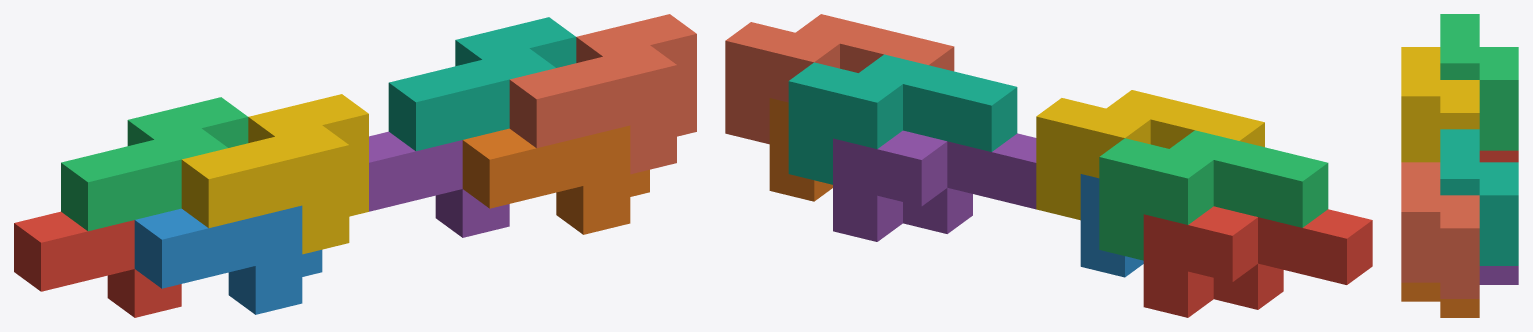
The model's file is tiling.obj.
The picture shows the model from 3 angles, left to right: view 1: azimuth 30°, elevation 25°; view 2: azimuth 150°, elevation 25°; view 3: azimuth 270°, elevation 25°; orthographic projection. The views are drawn at different scales.
Parts seen in each view (by area): view 1: copy_1_domain_4, copy_1_domain_8, copy_1_domain_7, copy_1_domain_3, copy_1_domain_2, copy_1_domain_6, copy_1_domain_1, copy_1_domain_5; view 2: copy_1_domain_3, copy_1_domain_7, copy_1_domain_1, copy_1_domain_5, copy_1_domain_8, copy_1_domain_4, copy_1_domain_6, copy_1_domain_2; view 3: copy_1_domain_8, copy_1_domain_7, copy_1_domain_3, copy_1_domain_4, copy_1_domain_6, copy_1_domain_5, copy_1_domain_1.
Part boxes in pixels (bbox=[...]): copy_1_domain_4: bbox=[181, 94, 368, 254]; copy_1_domain_8: bbox=[509, 14, 696, 174]; copy_1_domain_7: bbox=[388, 17, 576, 151]; copy_1_domain_3: bbox=[61, 97, 248, 231]; copy_1_domain_2: bbox=[134, 205, 322, 314]; copy_1_domain_6: bbox=[462, 125, 649, 234]; copy_1_domain_1: bbox=[14, 211, 181, 317]; copy_1_domain_5: bbox=[369, 131, 509, 237]; copy_1_domain_3: bbox=[1099, 130, 1328, 260]; copy_1_domain_7: bbox=[788, 54, 1017, 184]; copy_1_domain_1: bbox=[1143, 206, 1372, 317]; copy_1_domain_5: bbox=[833, 130, 1036, 241]; copy_1_domain_8: bbox=[725, 14, 954, 144]; copy_1_domain_4: bbox=[1036, 90, 1264, 220]; copy_1_domain_6: bbox=[769, 98, 832, 201]; copy_1_domain_2: bbox=[1080, 174, 1143, 277]; copy_1_domain_8: bbox=[1401, 162, 1479, 298]; copy_1_domain_7: bbox=[1440, 129, 1518, 265]; copy_1_domain_3: bbox=[1440, 14, 1518, 150]; copy_1_domain_4: bbox=[1401, 47, 1479, 162]; copy_1_domain_6: bbox=[1401, 282, 1479, 317]; copy_1_domain_5: bbox=[1479, 266, 1518, 284]; copy_1_domain_1: bbox=[1479, 150, 1518, 162].
Size of the model in its own units: 14 by 3 by 3.
